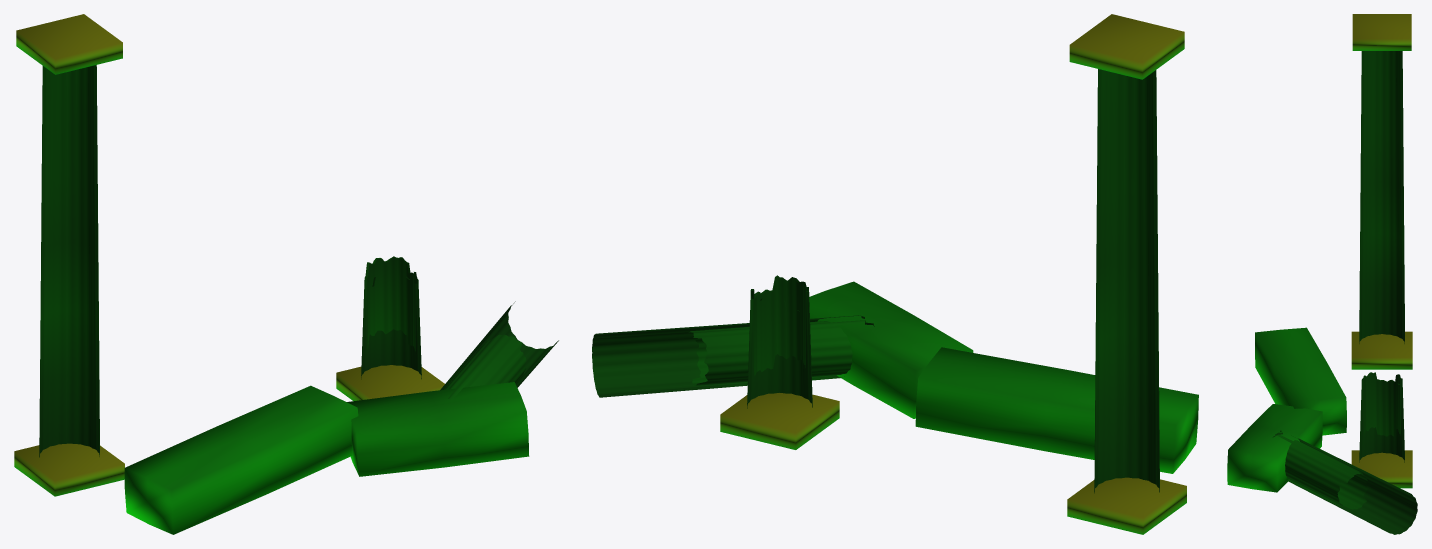
Rendered from iskarra_arch_fallen.glb.
3 views of the same model, side by side, from view 1: azimuth 30°, elevation 25°; view 2: azimuth 150°, elevation 25°; view 3: azimuth 270°, elevation 25° (orthographic). The views are drawn at different scales.
Parts seen in each view (by area): view 1: iskarra_arch_fallen; view 2: iskarra_arch_fallen; view 3: iskarra_arch_fallen.
Boxes of the visible parts, x1,y1,x2,y2 form: iskarra_arch_fallen: (14,14,558,534); iskarra_arch_fallen: (592,14,1198,534); iskarra_arch_fallen: (1227,14,1417,534).
Size of what is drawn, in the model's own units: 12.52 by 9.99 by 5.15.
